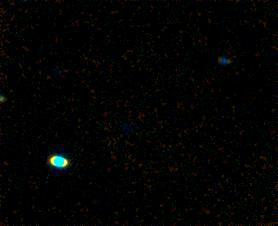star: (53, 189, 83, 219)
